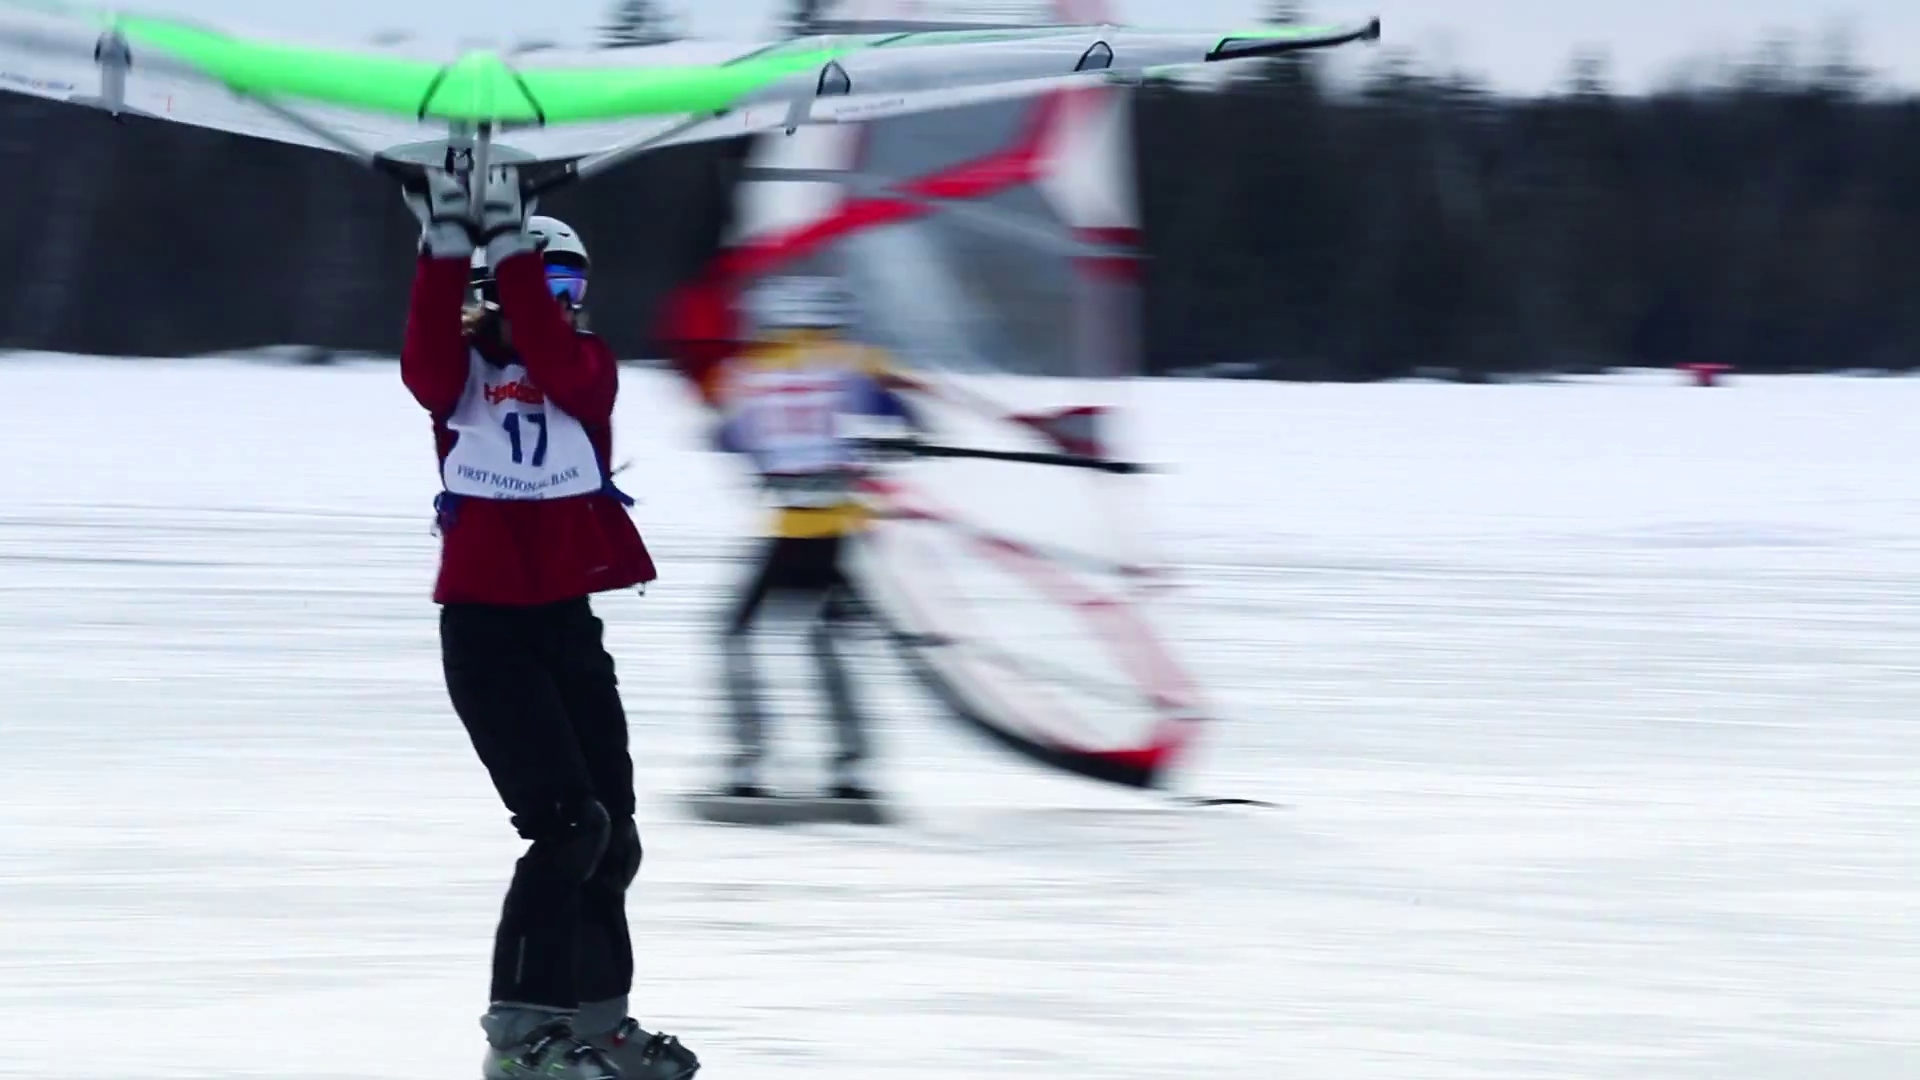person: (401, 189, 702, 1076)
